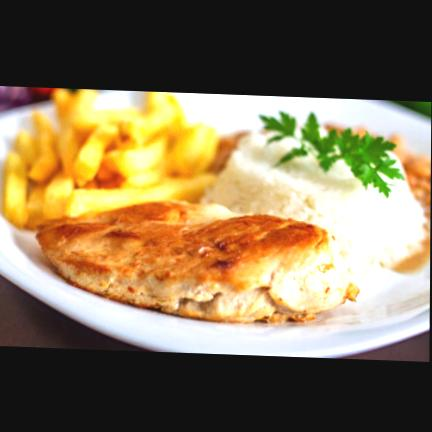beans: (391, 137, 430, 219)
chicken: (37, 202, 358, 322)
potato: (4, 88, 220, 228)
rice: (204, 132, 428, 275)
